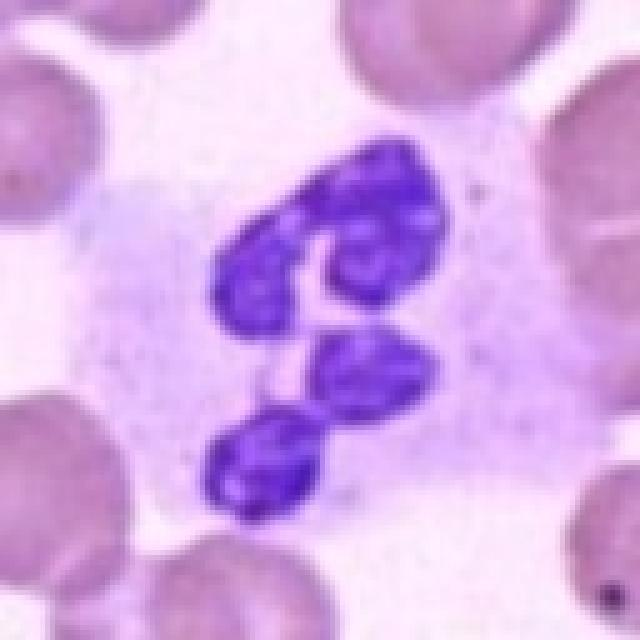neutro: (124, 108, 605, 548)
